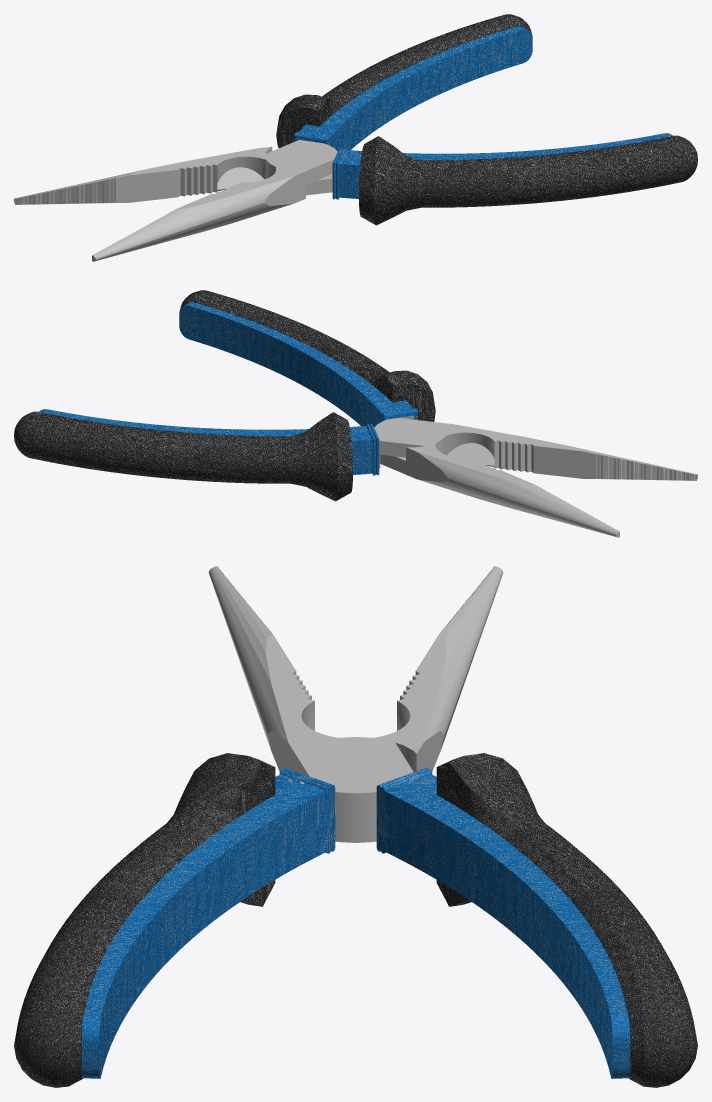
File: pliers_3.dae
The picture shows the model from 3 angles, top to bottom: view 1: azimuth 30°, elevation 25°; view 2: azimuth 150°, elevation 25°; view 3: azimuth 270°, elevation 25°; orthographic projection. The views are drawn at different scales.
Visible parts, largest first — view 1: group_3 (×2), group_6 (×2), group_7, group_2, group_4; view 2: group_6 (×2), group_3 (×2), group_7, group_2, group_4; view 3: group_3 (×2), group_6 (×2), group_7, group_2, group_4.
Boxes of the visible parts, left/top/right/bottom form: group_3 (×2): left=332, top=133, right=697, bottom=225; group_6 (×2): left=276, top=14, right=532, bottom=151; group_7: left=92, top=140, right=337, bottom=261; group_2: left=14, top=146, right=331, bottom=204; group_4: left=285, top=148, right=318, bottom=162; group_6 (×2): left=14, top=409, right=379, bottom=501; group_3 (×2): left=179, top=290, right=435, bottom=427; group_7: left=374, top=418, right=697, bottom=480; group_2: left=380, top=443, right=619, bottom=537; group_4: left=393, top=424, right=426, bottom=438; group_3 (×2): left=14, top=753, right=335, bottom=1087; group_6 (×2): left=376, top=753, right=697, bottom=1087; group_7: left=208, top=566, right=413, bottom=818; group_2: left=335, top=566, right=503, bottom=842; group_4: left=325, top=752, right=386, bottom=777.
Size of the model in its own units: 7.53 by 4.43 by 1.06.
